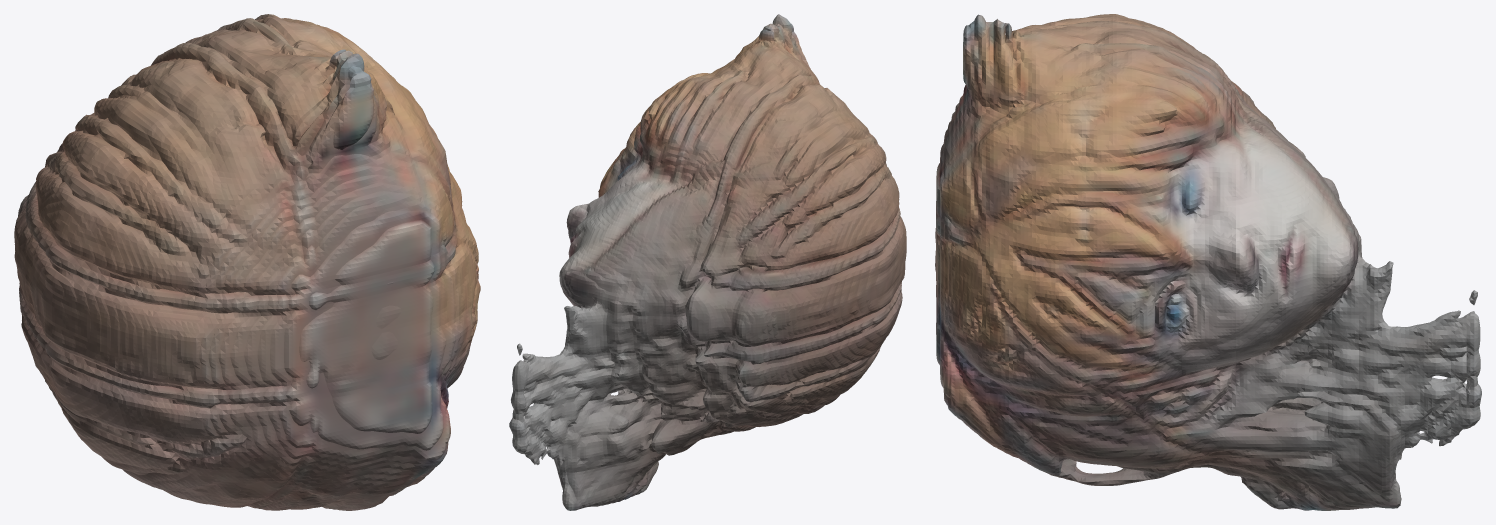
3 views of the same model, side by side, from view 1: azimuth 30°, elevation 25°; view 2: azimuth 150°, elevation 25°; view 3: azimuth 270°, elevation 25° (orthographic). The views are drawn at different scales.
Parts seen in each view (by area): view 1: world; view 2: world; view 3: world.
Boxes of the visible parts, <box> form: world: <box>14,14,480,510</box>; world: <box>509,14,906,510</box>; world: <box>935,14,1481,510</box>.
Size of the model in its own units: 0.6986 by 0.9467 by 0.9706.
